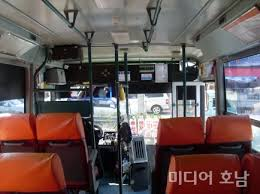seat: (3, 142, 68, 190)
